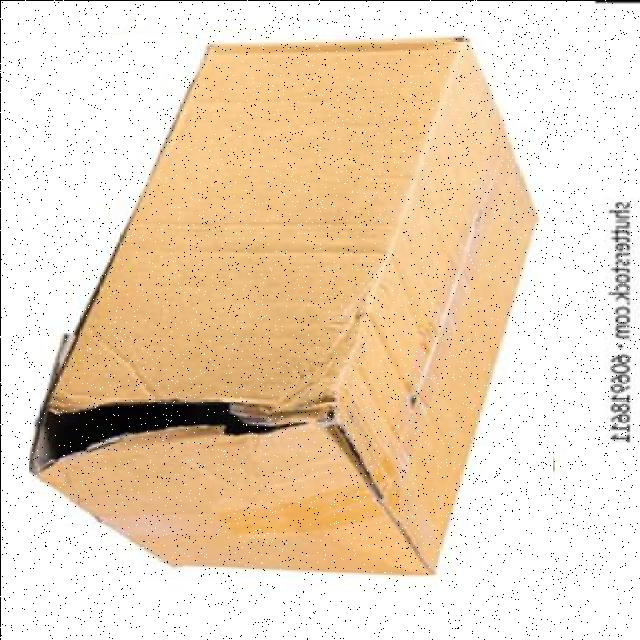defect: (28, 34, 552, 595)
